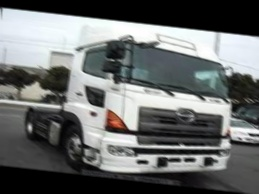car: (227, 117, 259, 148)
